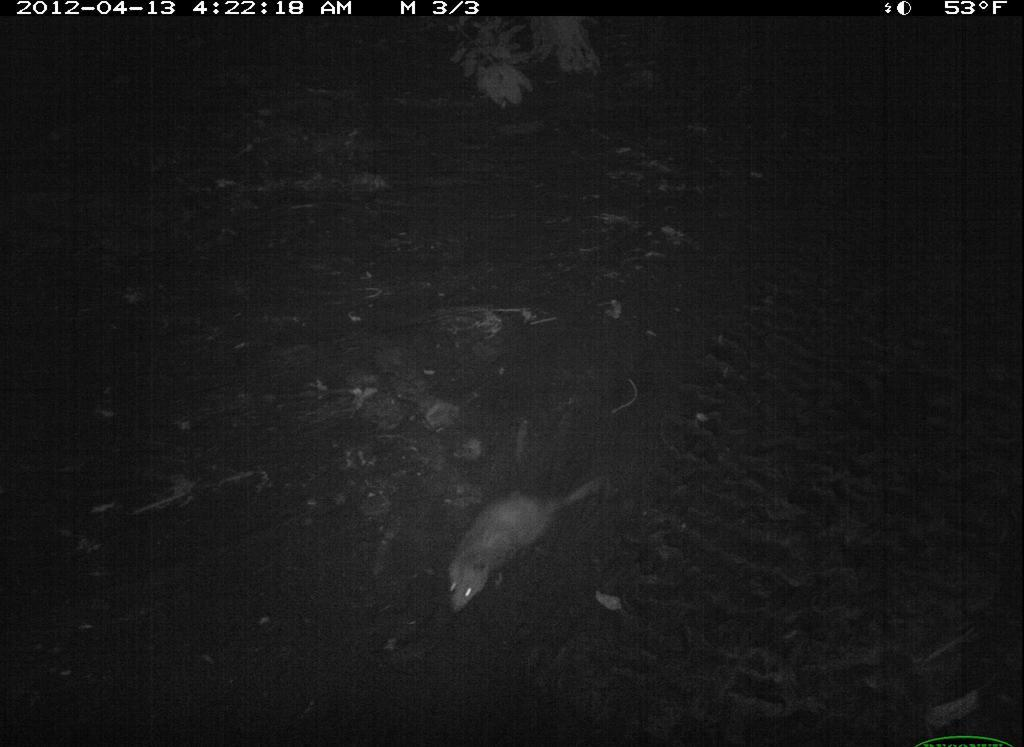opossum: (396, 461, 644, 638)
